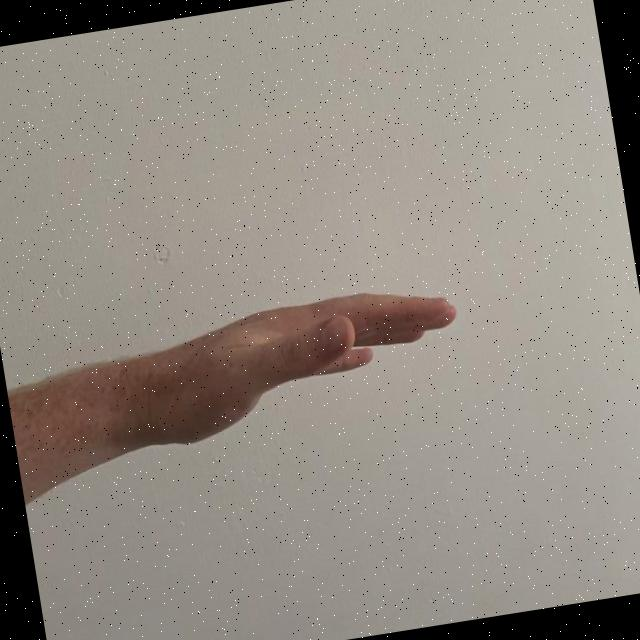papper: (94, 274, 475, 462)
